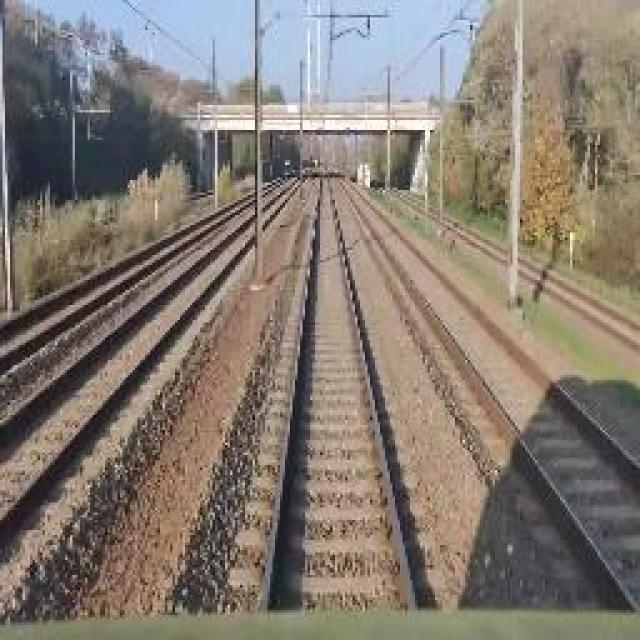rail: (334, 171, 640, 616), (1, 167, 314, 599), (218, 168, 459, 623)
